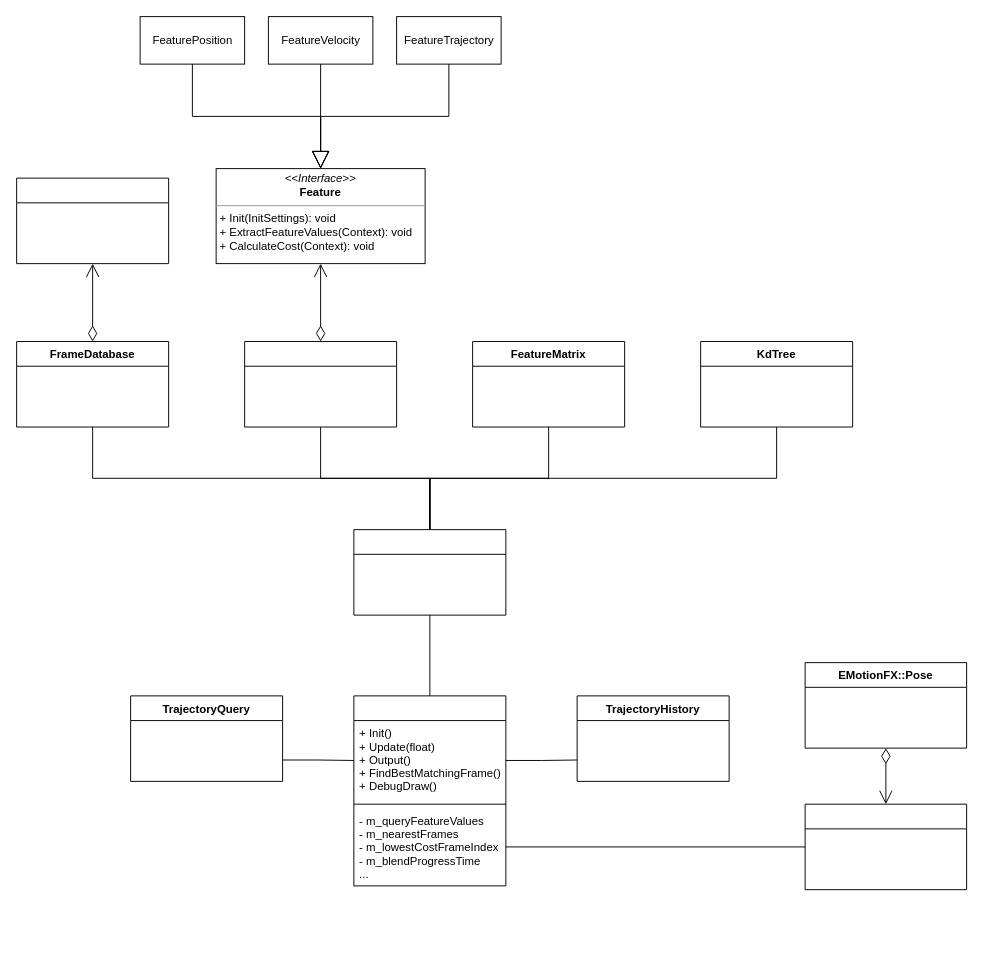
Some shapes in this 983 by 955 pixel diagram are drawn without their labels. Each missing label, with the box of its shape:
FeatureSchema: (244, 341, 397, 427)
Frame: (16, 177, 169, 264)
MotionMatchingData: (353, 529, 506, 615)
MotionMatchingInstance: (353, 695, 506, 886)
PoseDataJointVelocities: (804, 803, 967, 890)
